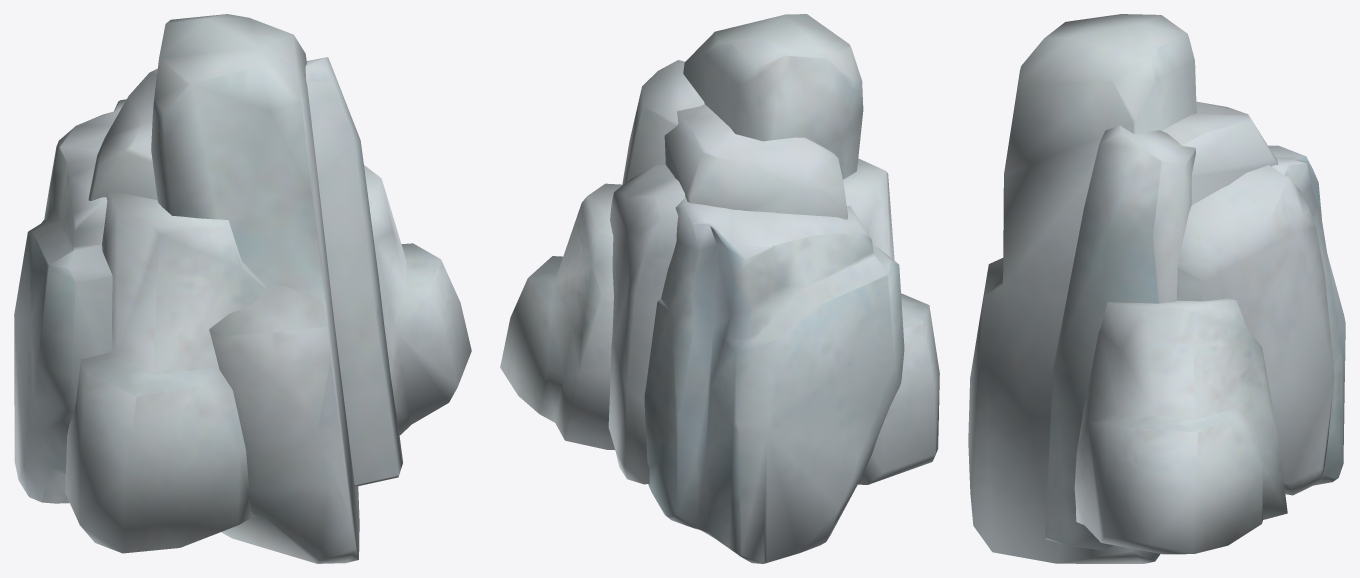
File: P_RockSpire_RockClumpB06.obj
The picture shows the model from 3 angles, left to right: view 1: azimuth 30°, elevation 25°; view 2: azimuth 150°, elevation 25°; view 3: azimuth 270°, elevation 25°; orthographic projection. The views are drawn at different scales.
Bounding box in the file's own units: 15.71 × 17.97 × 12.34.
